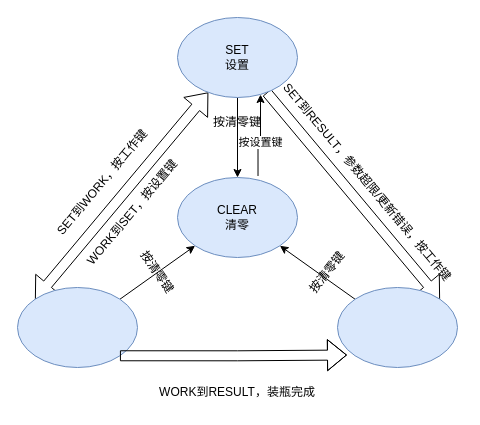
Some shapes in this 480 by 425 pixel diagram are drawn without their labels. The shapes that lost their labels are listed below. From the top down, each one's centre as x and y in pixels, then its label:
the point at 77,327: WORK 工作
the point at 397,327: RESULT 结果 Finish/Error
